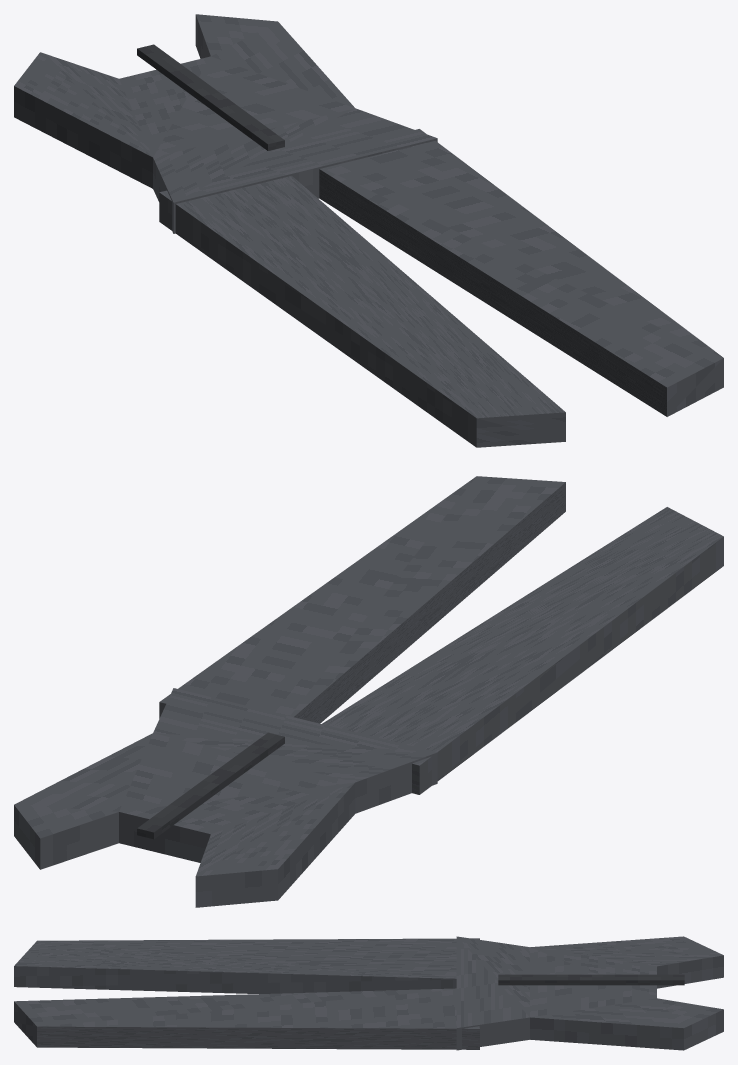
File: unitard.glb
3 renders of one model, top to bottom at view 1: azimuth 30°, elevation 25°; view 2: azimuth 150°, elevation 25°; view 3: azimuth 270°, elevation 25°, orthographic. The views are drawn at different scales.
Parts seen in each view (by area): view 1: block_trouser leg (×2), block_tailored torso, block_center seam; view 2: block_trouser leg (×2), block_tailored torso, block_center seam; view 3: block_trouser leg (×2), block_tailored torso, block_center seam.
Boxes of the visible parts, x1,y1,x2,y2 form: block_trouser leg (×2): (159,129,723,447); block_tailored torso: (14,14,437,233); block_center seam: (137,44,284,150); block_trouser leg (×2): (159,476,723,794); block_tailored torso: (14,688,437,907); block_center seam: (137,732,284,839); block_trouser leg (×2): (14,938,479,1049); block_tailored torso: (456,936,723,1050); block_center seam: (498,974,684,985).
Bounding box in the file's own units: 0.104 × 0.0144 × 0.3402.
Materials: 1 (1 with a texture image).
